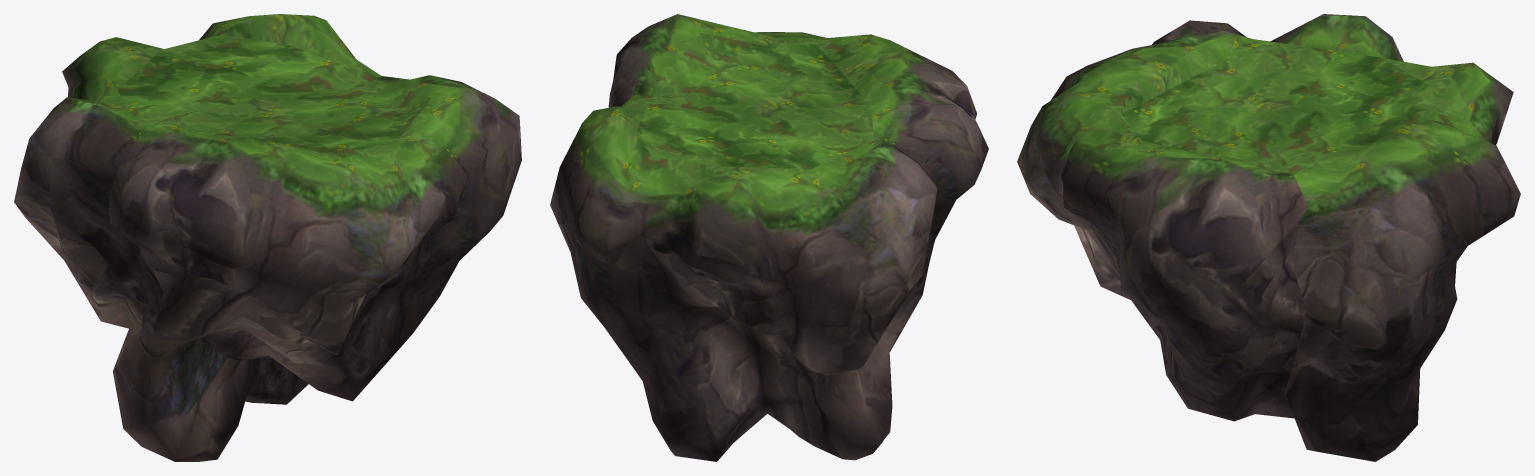
Rendered from Stage_ZhuCheng_ShanTi03.FBX.
3 views of the same model, side by side, from view 1: azimuth 30°, elevation 25°; view 2: azimuth 150°, elevation 25°; view 3: azimuth 270°, elevation 25° (orthographic). The views are drawn at different scales.
Parts seen in each view (by area): view 1: Stage_ZhuCheng_ShanTi03; view 2: Stage_ZhuCheng_ShanTi03; view 3: Stage_ZhuCheng_ShanTi03.
Boxes of the visible parts, x1=… form: Stage_ZhuCheng_ShanTi03: x1=14, y1=14, x2=521, y2=461; Stage_ZhuCheng_ShanTi03: x1=550, y1=14, x2=988, y2=461; Stage_ZhuCheng_ShanTi03: x1=1017, y1=14, x2=1520, y2=461.
Bounding box in the file's own units: 1033 × 868 × 1103.
